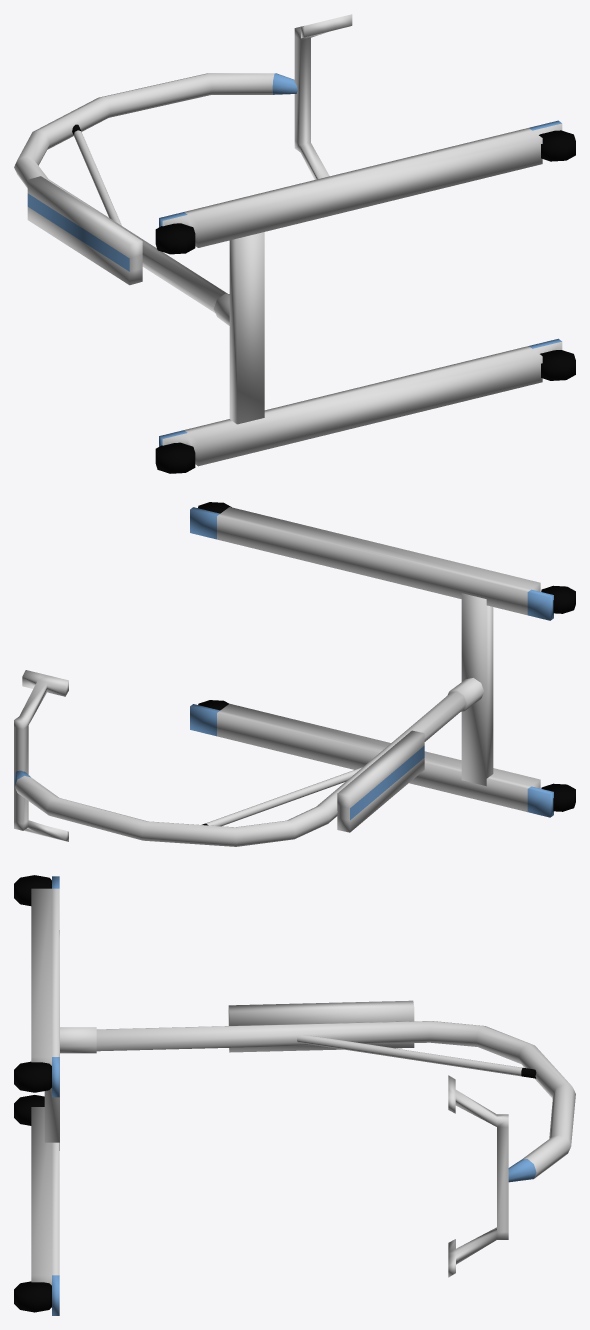
3 views of the same model, one above another, from view 1: azimuth 30°, elevation 25°; view 2: azimuth 150°, elevation 25°; view 3: azimuth 270°, elevation 25° (orthographic). The views are drawn at different scales.
Parts seen in each view (by area): view 1: Circle; view 2: Circle; view 3: Circle.
Boxes of the visible parts, x1,y1,x2,y2 form: Circle: [14, 14, 575, 473]; Circle: [14, 502, 575, 846]; Circle: [14, 875, 575, 1315].
Bounding box in the file's own units: 114 × 63.79 × 133.
